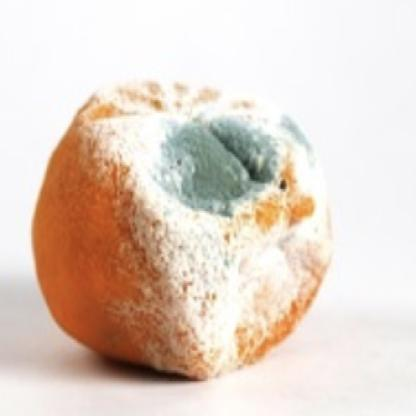rotten: (32, 79, 339, 382)
